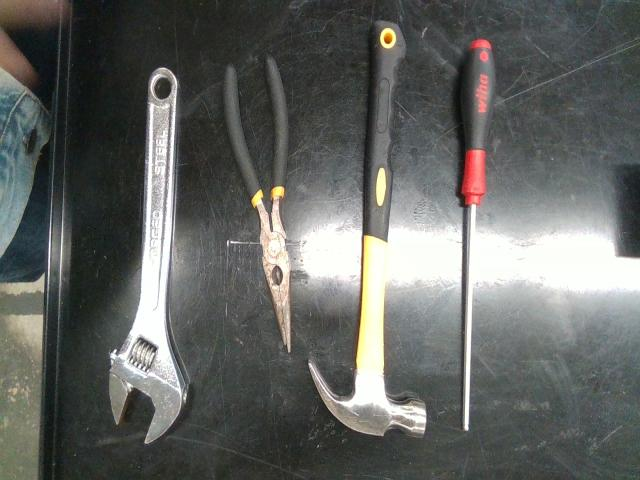Adjustable spanner: (109, 68, 189, 443)
Hammer: (309, 20, 426, 437)
Needle-nose pliers: (224, 55, 291, 352)
Screwdriver: (461, 38, 495, 431)
